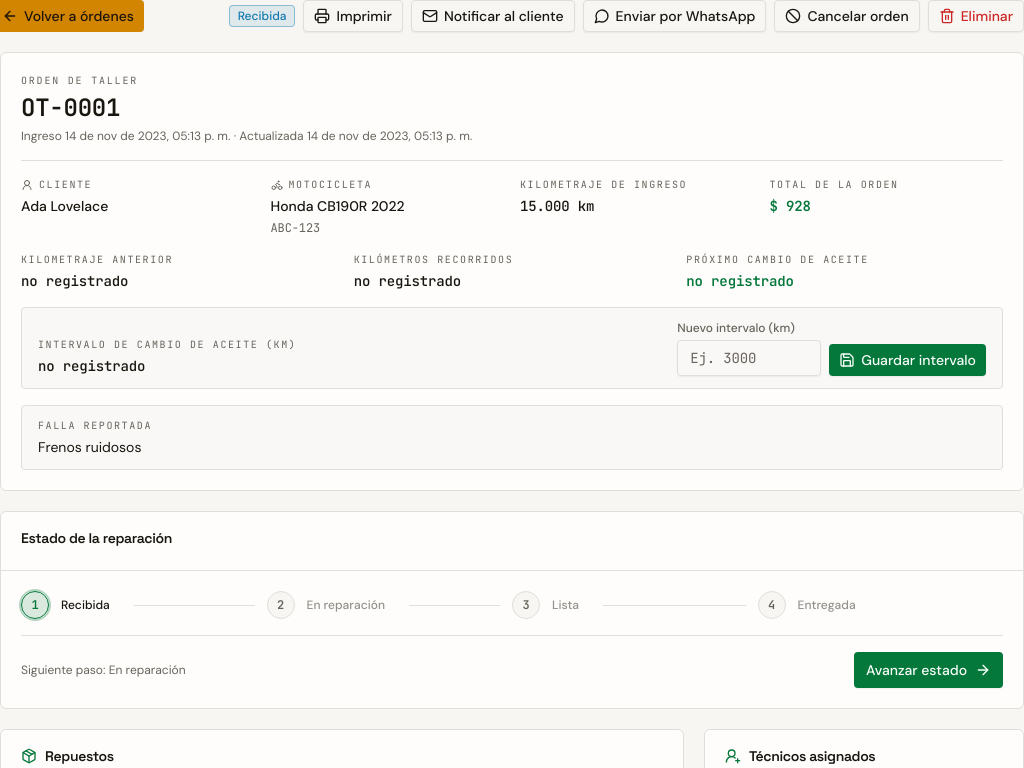
OrderDetailPage › explains when the order's customer has no phone registered
Check: the heading "OT-0001" is shown, box [21,92,120,123]
Click the button with test id "order_detail.whatsapp_button": (674, 16) [583,0,766,32]
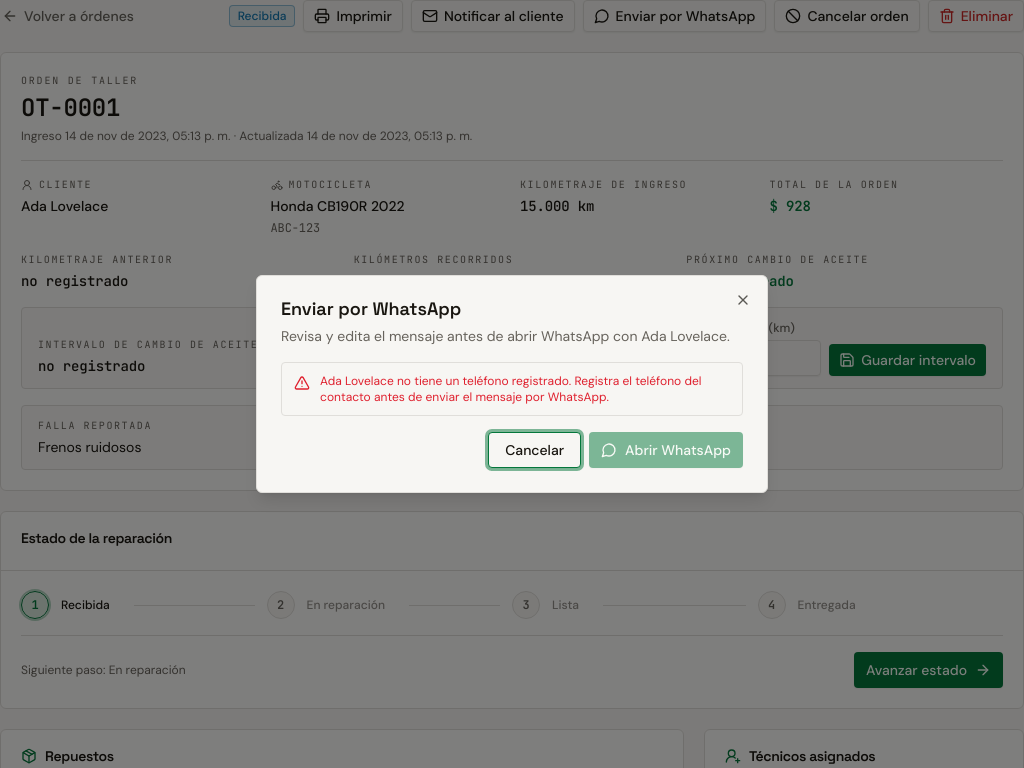
Check: the element with test id "whatsapp.no_phone_state" shows "no tiene un teléfono registrado", box [320,373,701,405]
Check: the button with test id "whatsapp.send_button" is disabled, box [589,432,743,468]
